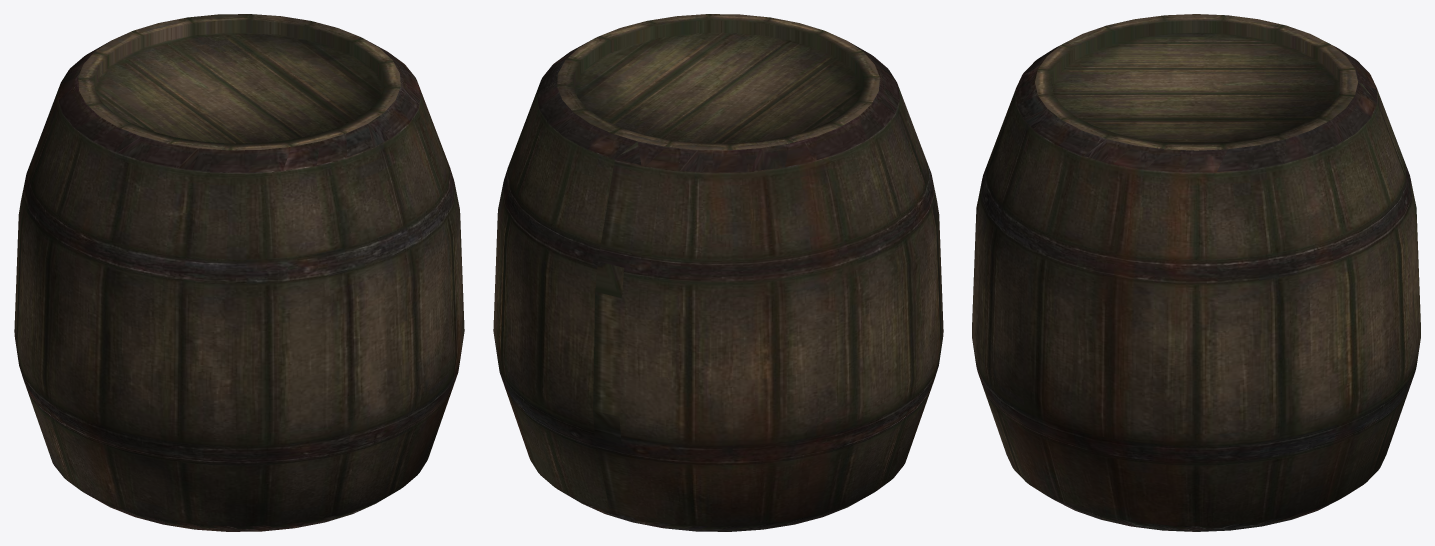
The model's file is Barril01.fbx.
3 views of the same model, side by side, from view 1: azimuth 30°, elevation 25°; view 2: azimuth 150°, elevation 25°; view 3: azimuth 270°, elevation 25° (orthographic).
Visible parts, largest first — view 1: Barril; view 2: Barril; view 3: Barril.
Part boxes in pixels (box(x1,y1,x2,y2)): Barril: box(14, 14, 464, 531); Barril: box(493, 14, 943, 531); Barril: box(972, 14, 1420, 531).
Bounding box in the file's own units: 237 × 220 × 237.
1 material, 1 textured.
